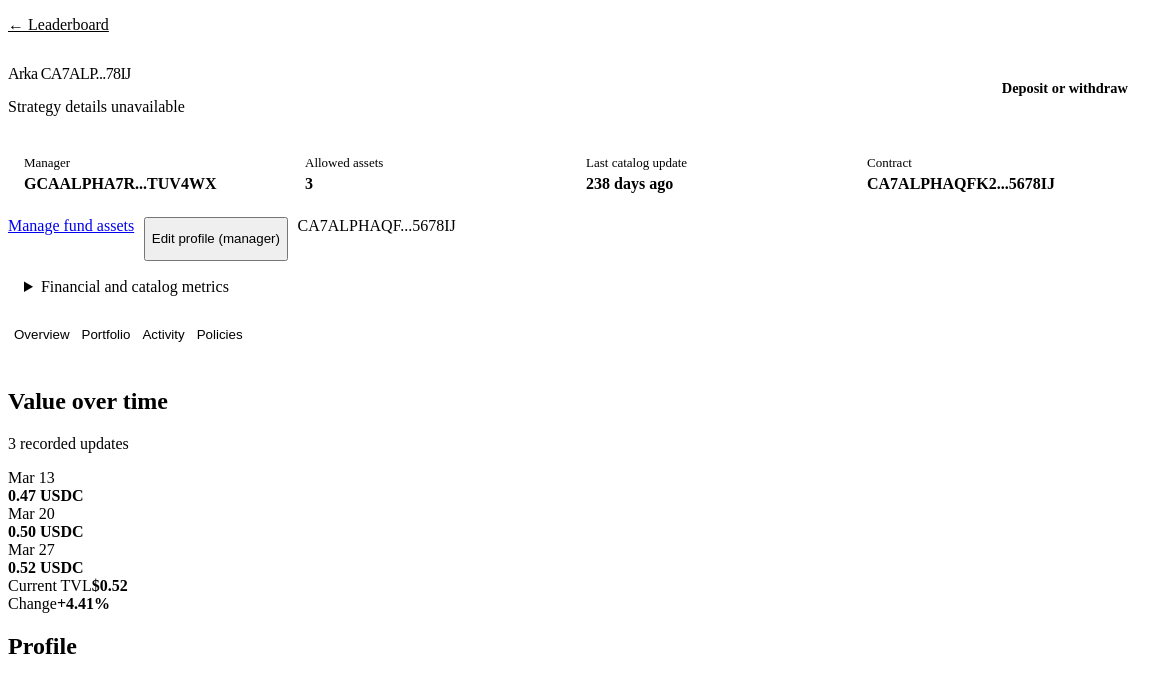
Test case: VaultDetailSurface › keeps the profile metrics, disclosure and financial entry points in the redesign
Click the heading "Financial and catalog metrics" at {"x": 135, "y": 286}, box [41, 278, 229, 295]
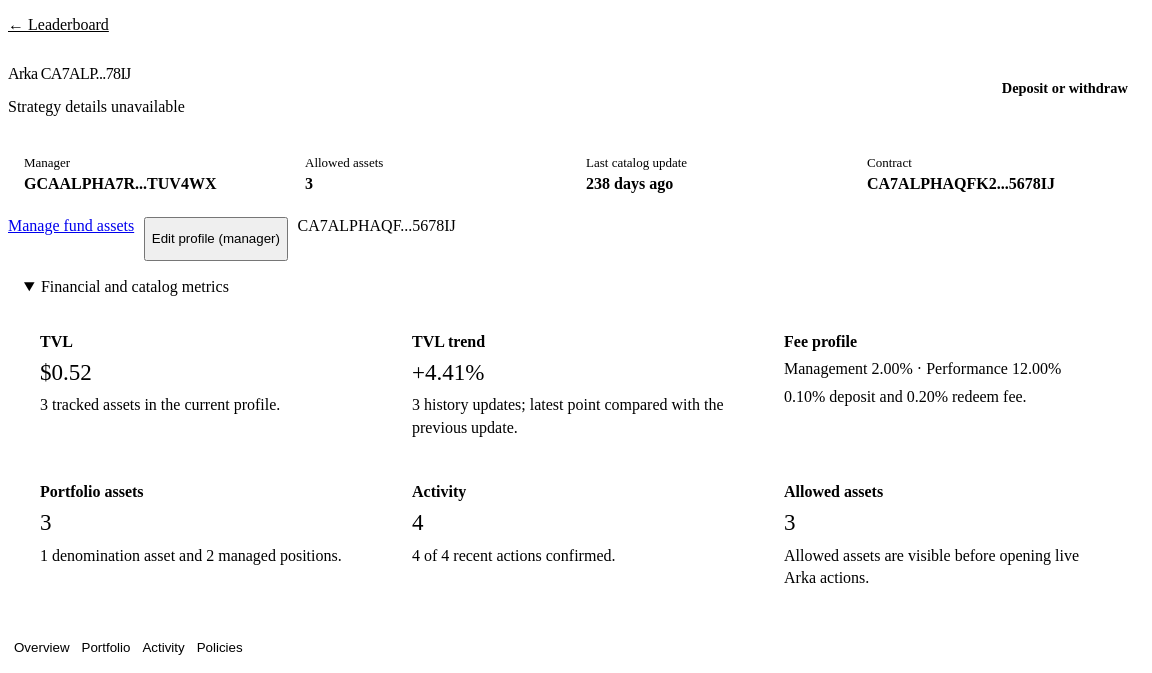
Check: the element with test id "vault-detail-fees" shows "Management 2.00%", box [784, 360, 1061, 377]
Click the button "Policies" at {"x": 220, "y": 648}, box [191, 626, 249, 670]
(page scrolled)
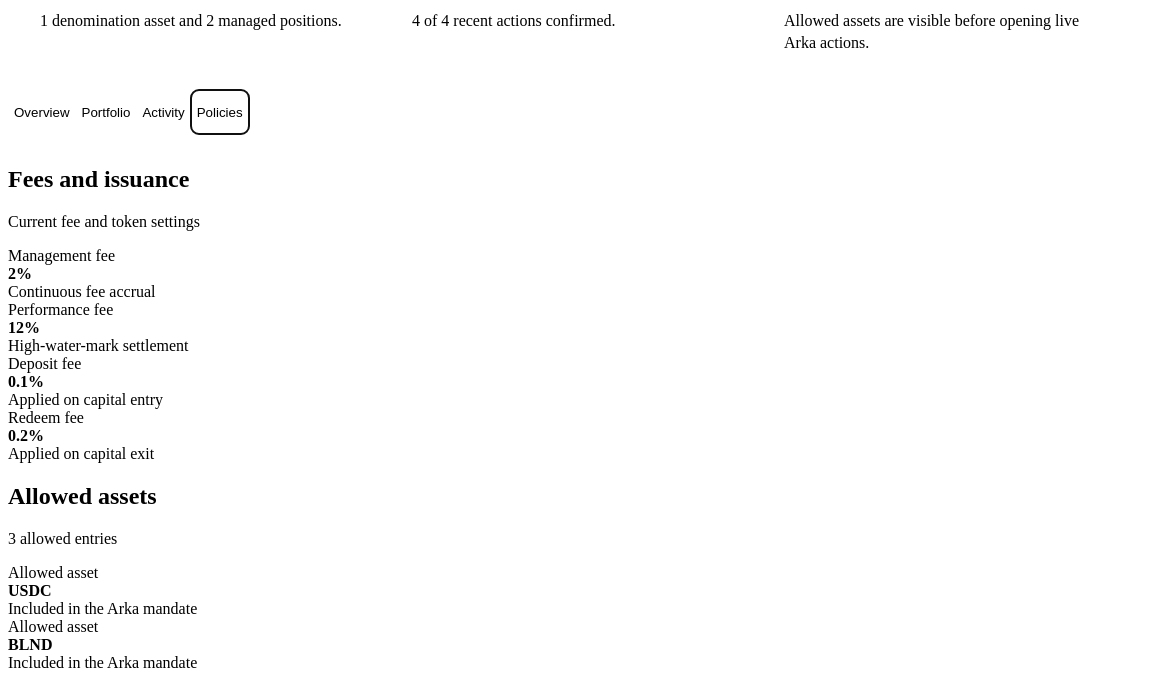
Check: the element with test id "vault-policies-table" shows "Management fee", box [8, 247, 115, 264]
